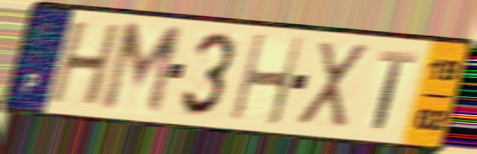3: (178, 29, 241, 120)
H: (228, 32, 307, 129), (45, 19, 126, 110)
M: (95, 20, 187, 119)
T: (371, 47, 420, 133)
X: (295, 38, 371, 130)
